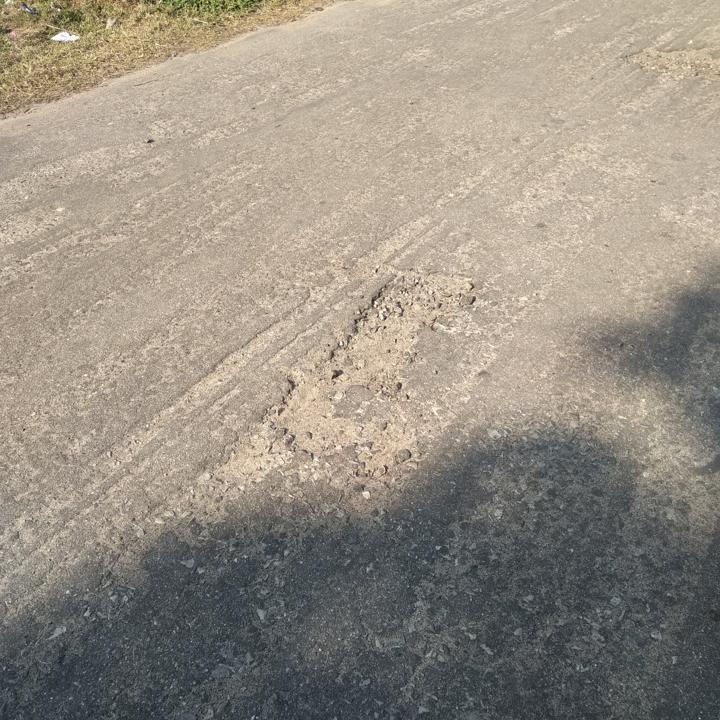pothole: (263, 265, 478, 471)
